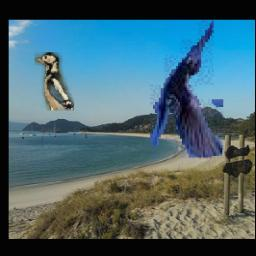Swallow: (150, 21, 223, 161)
Woodpecker: (36, 52, 75, 110)
